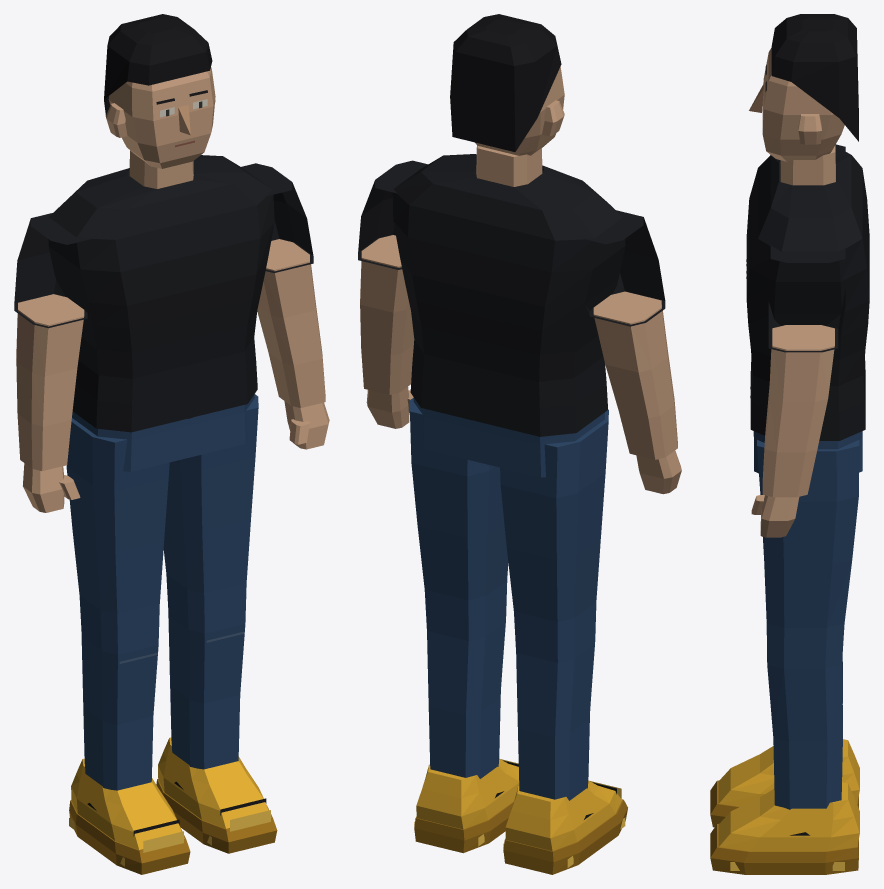
Rendered from svyazi_def.glb.
3 views of the same model, side by side, from view 1: azimuth 30°, elevation 25°; view 2: azimuth 150°, elevation 25°; view 3: azimuth 270°, elevation 25° (orthographic). The views are drawn at different scales.
Parts seen in each view (by area): view 1: NPC_black_tshirt_gold_sneakers; view 2: NPC_black_tshirt_gold_sneakers; view 3: NPC_black_tshirt_gold_sneakers.
Boxes of the visible parts, x1,y1,x2,y2 form: NPC_black_tshirt_gold_sneakers: (14, 14, 329, 874); NPC_black_tshirt_gold_sneakers: (358, 14, 681, 874); NPC_black_tshirt_gold_sneakers: (710, 14, 869, 874).
Bounding box in the file's own units: 0.686 × 1.75 × 0.311.
1 material, 1 textured.
